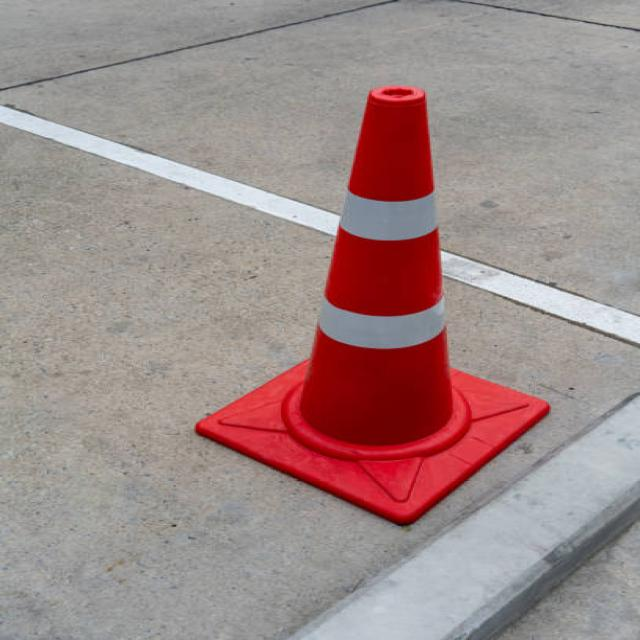Traffic Cone: (157, 40, 604, 549)
